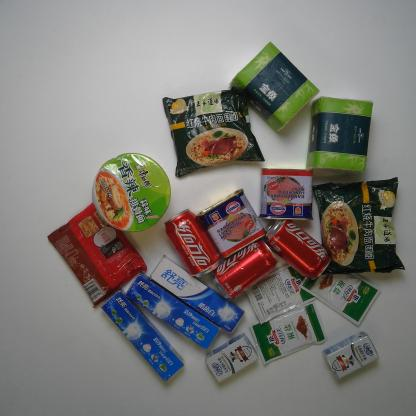Canned Food: (197, 188, 267, 260), (258, 166, 315, 221)
Dessert: (46, 202, 148, 308)
Drink: (264, 218, 332, 282), (210, 238, 279, 301), (164, 208, 222, 280)
Instant Noodles: (161, 84, 266, 178), (312, 176, 406, 276), (91, 152, 172, 233)
Milk: (322, 330, 380, 381), (204, 332, 259, 383)
Personal Hygiene: (100, 288, 186, 384), (124, 270, 222, 351), (149, 254, 246, 334)
Seasoner: (249, 300, 329, 366), (299, 272, 381, 328), (246, 264, 317, 326)
Tissue: (228, 40, 322, 133), (304, 94, 375, 175)
